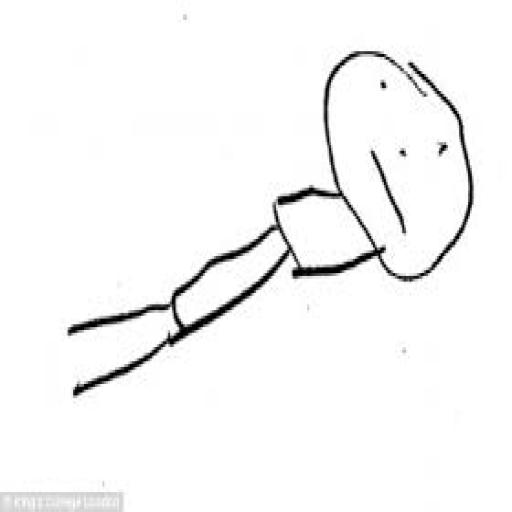person: (60, 42, 476, 402)
